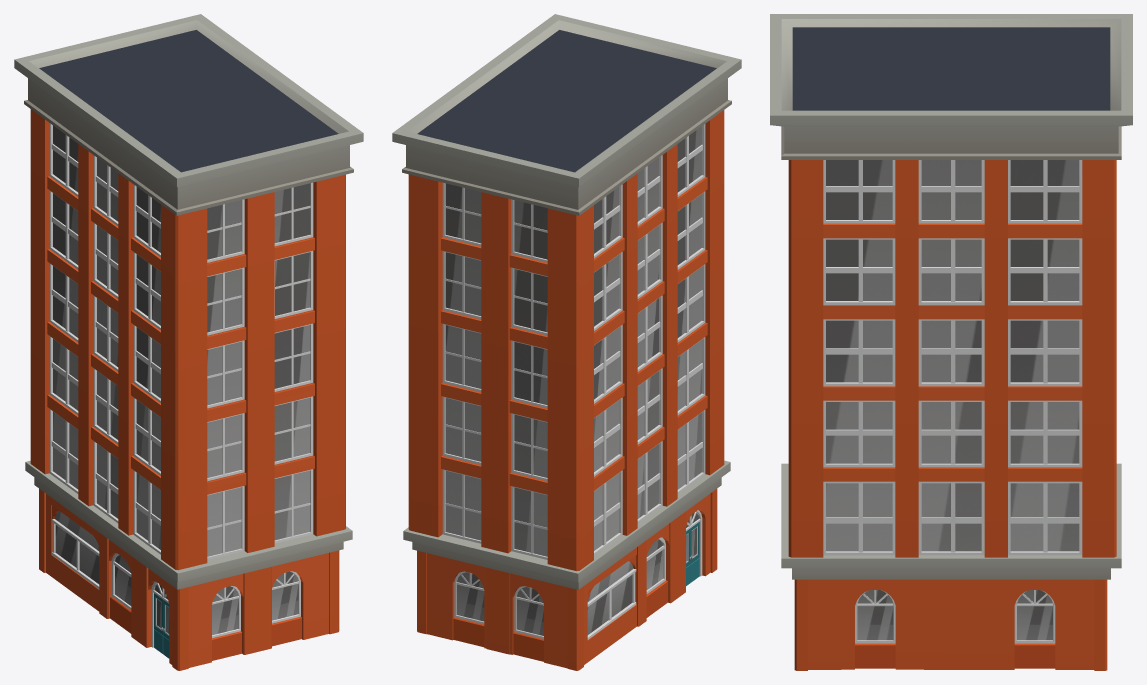
File: Building_27_K.glb
3 views of the same model, side by side, from view 1: azimuth 30°, elevation 25°; view 2: azimuth 150°, elevation 25°; view 3: azimuth 270°, elevation 25° (orthographic). The views are drawn at different scales.
Parts seen in each view (by area): view 1: Building_27_K; view 2: Building_27_K; view 3: Building_27_K.
Part boxes in pixels (left/top/right/bottom): Building_27_K: left=14, top=14, right=363, bottom=670; Building_27_K: left=392, top=14, right=741, bottom=670; Building_27_K: left=770, top=14, right=1132, bottom=670.
Size of the model in its own units: 7.65 by 19.74 by 11.55.
3 materials, 3 textured.
